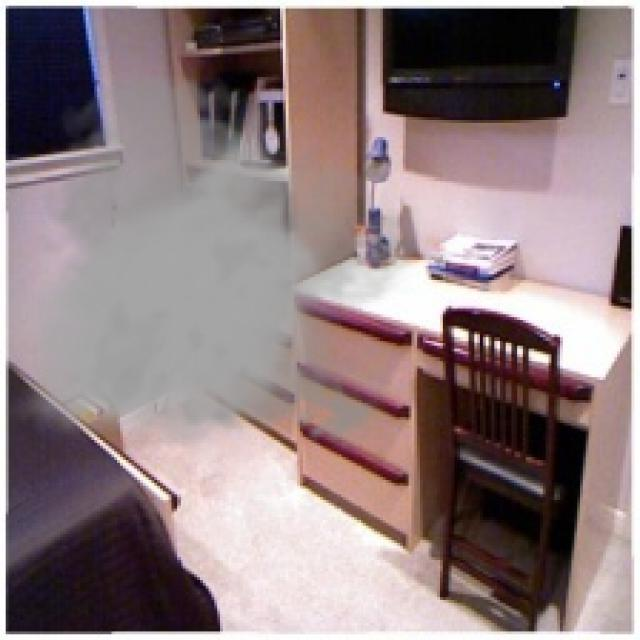Smoke: (8, 68, 420, 454)
